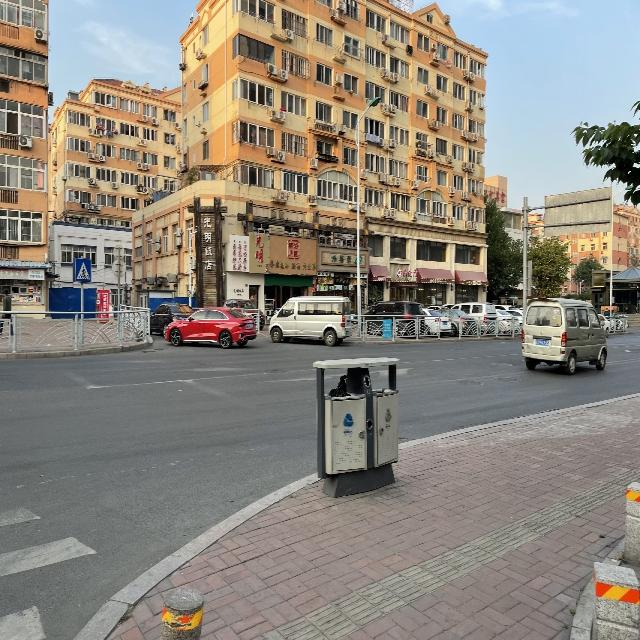overflow: (312, 356, 399, 498)
